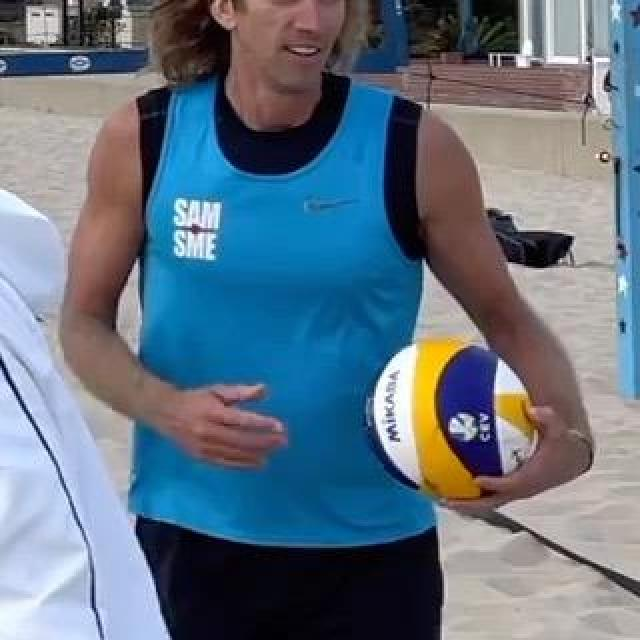volleyball: (363, 335, 537, 501)
